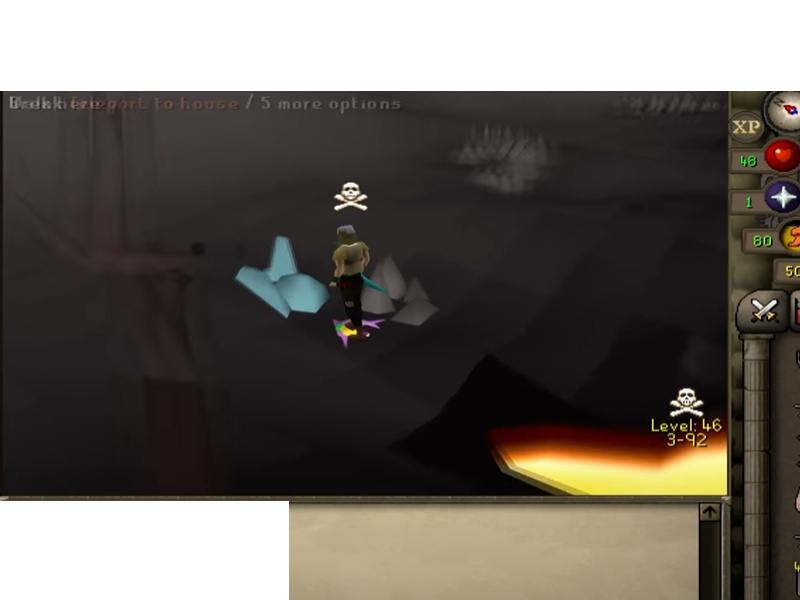rune: (227, 231, 335, 325)
